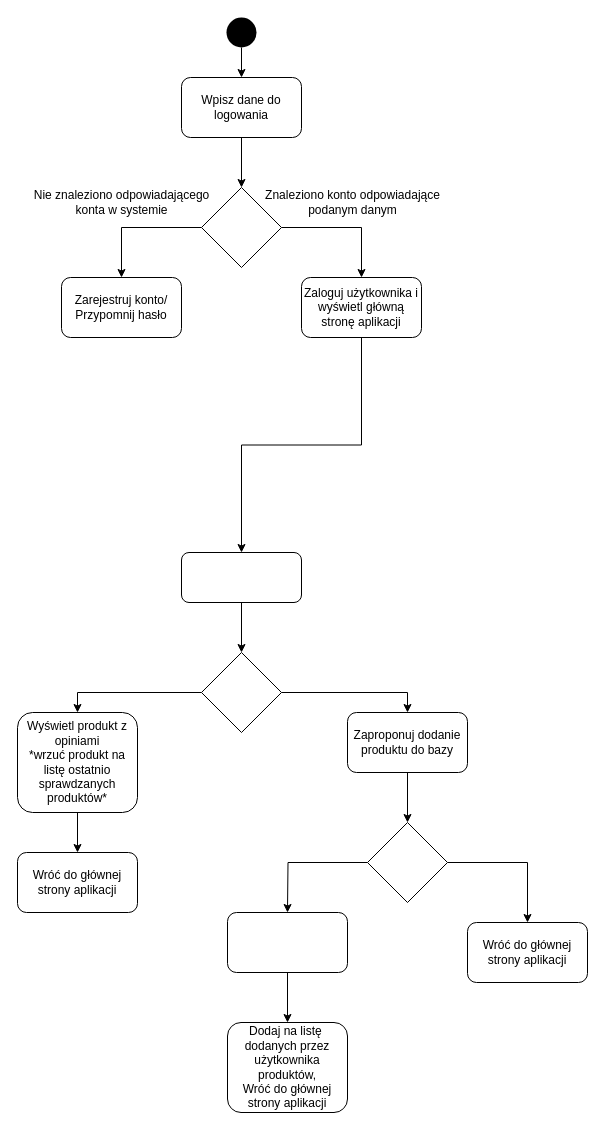
Image size: 605x1130. Some labels were removed from this diagram. Each missing label, with the box of its shape:
Otwórz kreator: -uzupełnij informacje, -dodaj produkt: (226, 912, 348, 972)
Zeskanuj kod kreskowy do apki: (180, 552, 302, 602)
